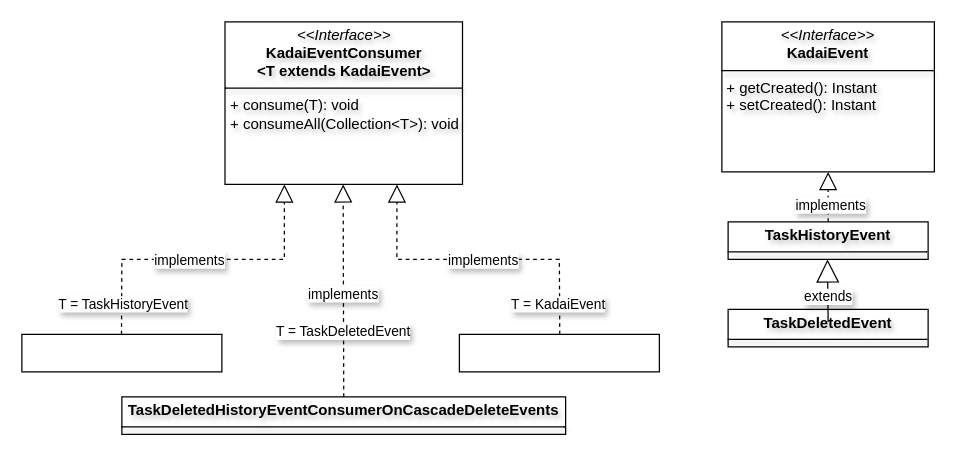
Image size: 956x456. Some labels were removed from this diagram. The centre of each missing label's shape, as x and y in pixels:
"KadaiEventLogger" belongs at point 558,352.
"TaskHistoryEventPersister" belongs at point 121,352.
